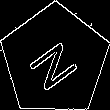N_NE: (24, 29, 86, 92)
